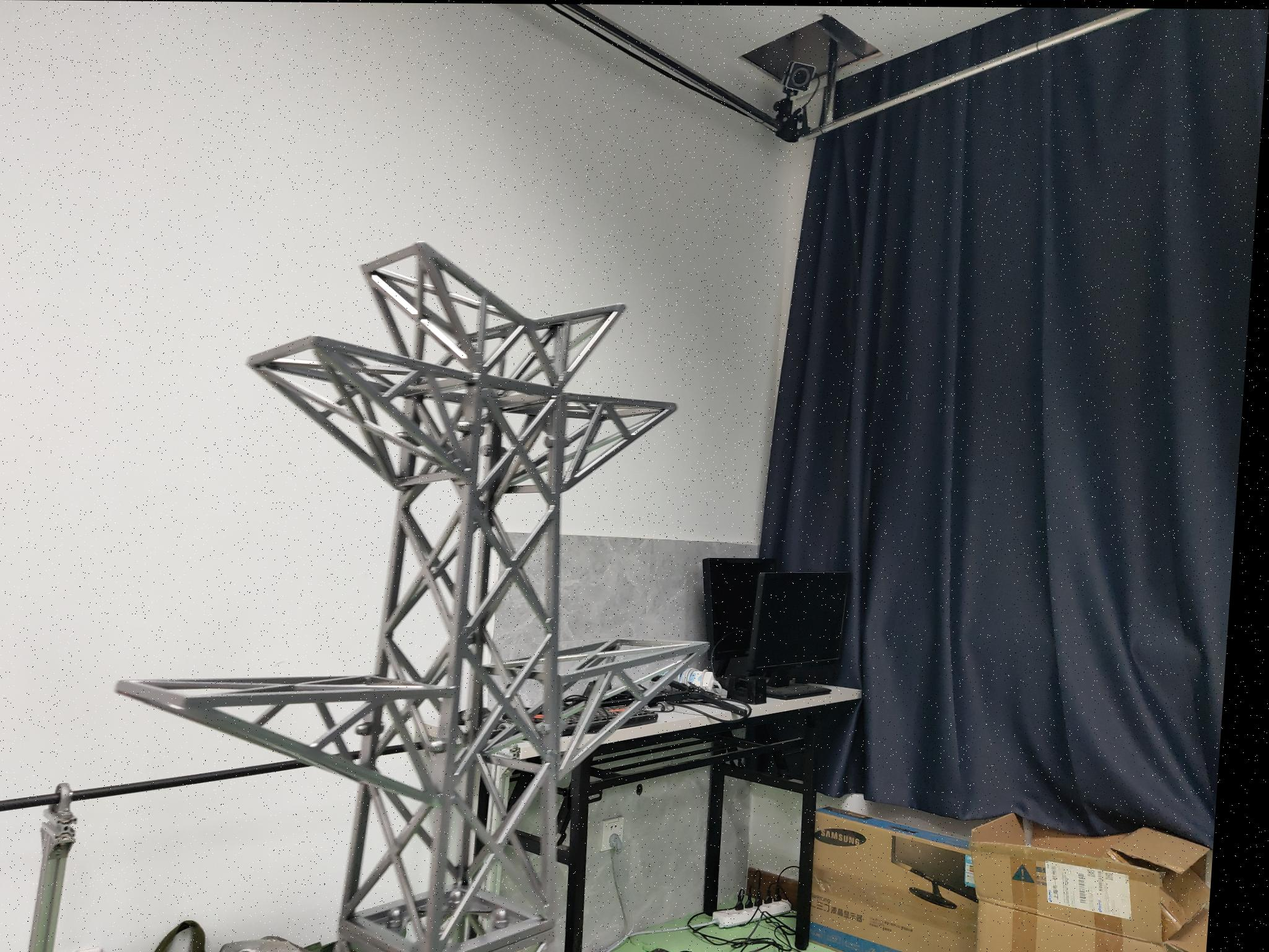tower: (103, 243, 719, 952)
